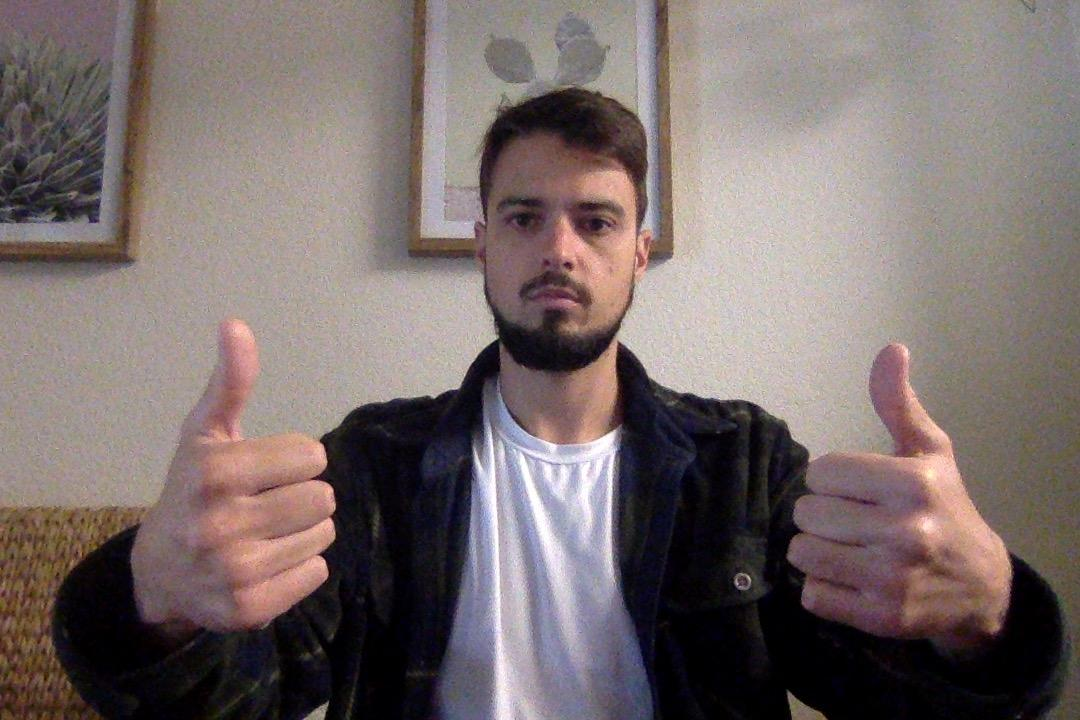Thumbs-Up: (767, 340, 1034, 669), (124, 318, 350, 646)
